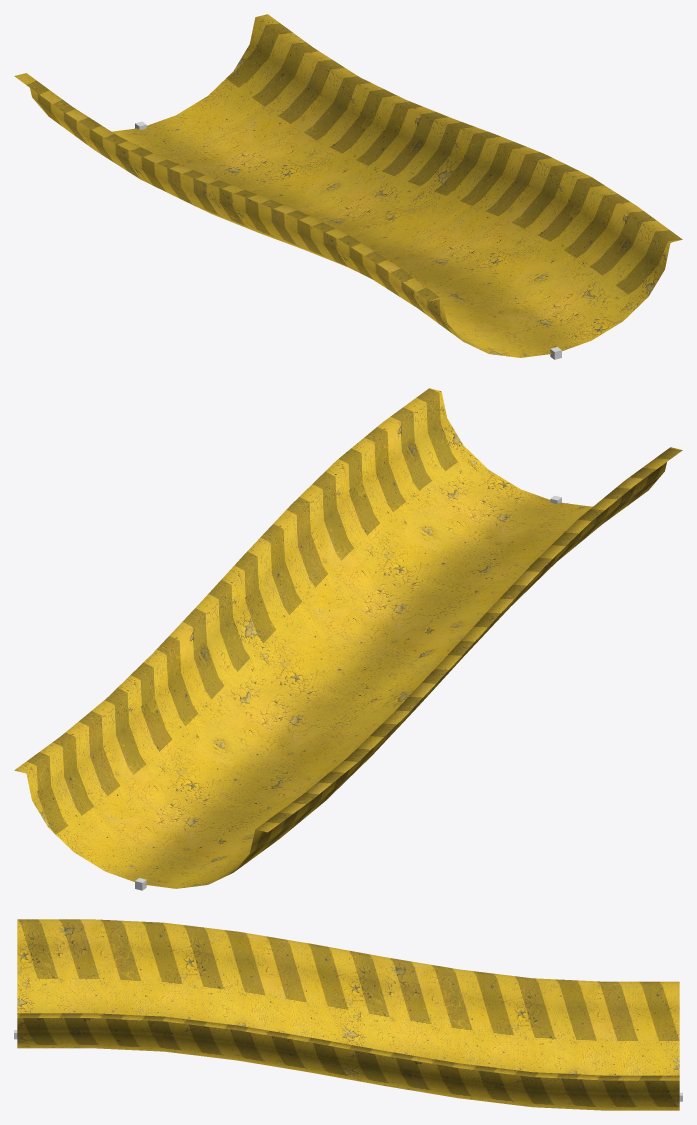
Rendered from roadSlope.down1.fbx.
3 renders of one model, top to bottom at view 1: azimuth 30°, elevation 25°; view 2: azimuth 150°, elevation 25°; view 3: azimuth 270°, elevation 25°, orthographic. The views are drawn at different scales.
Visible parts, largest first — view 1: MESH roadSlope.down1; view 2: MESH roadSlope.down1; view 3: MESH roadSlope.down1.
Boxes of the visible parts, box(x1,y1,x2,y2) form: MESH roadSlope.down1: box(14, 14, 682, 357); MESH roadSlope.down1: box(14, 388, 682, 888); MESH roadSlope.down1: box(17, 919, 679, 1110).
Size of what is drawn, in the model's own units: 1694 by 1053 by 4850.
